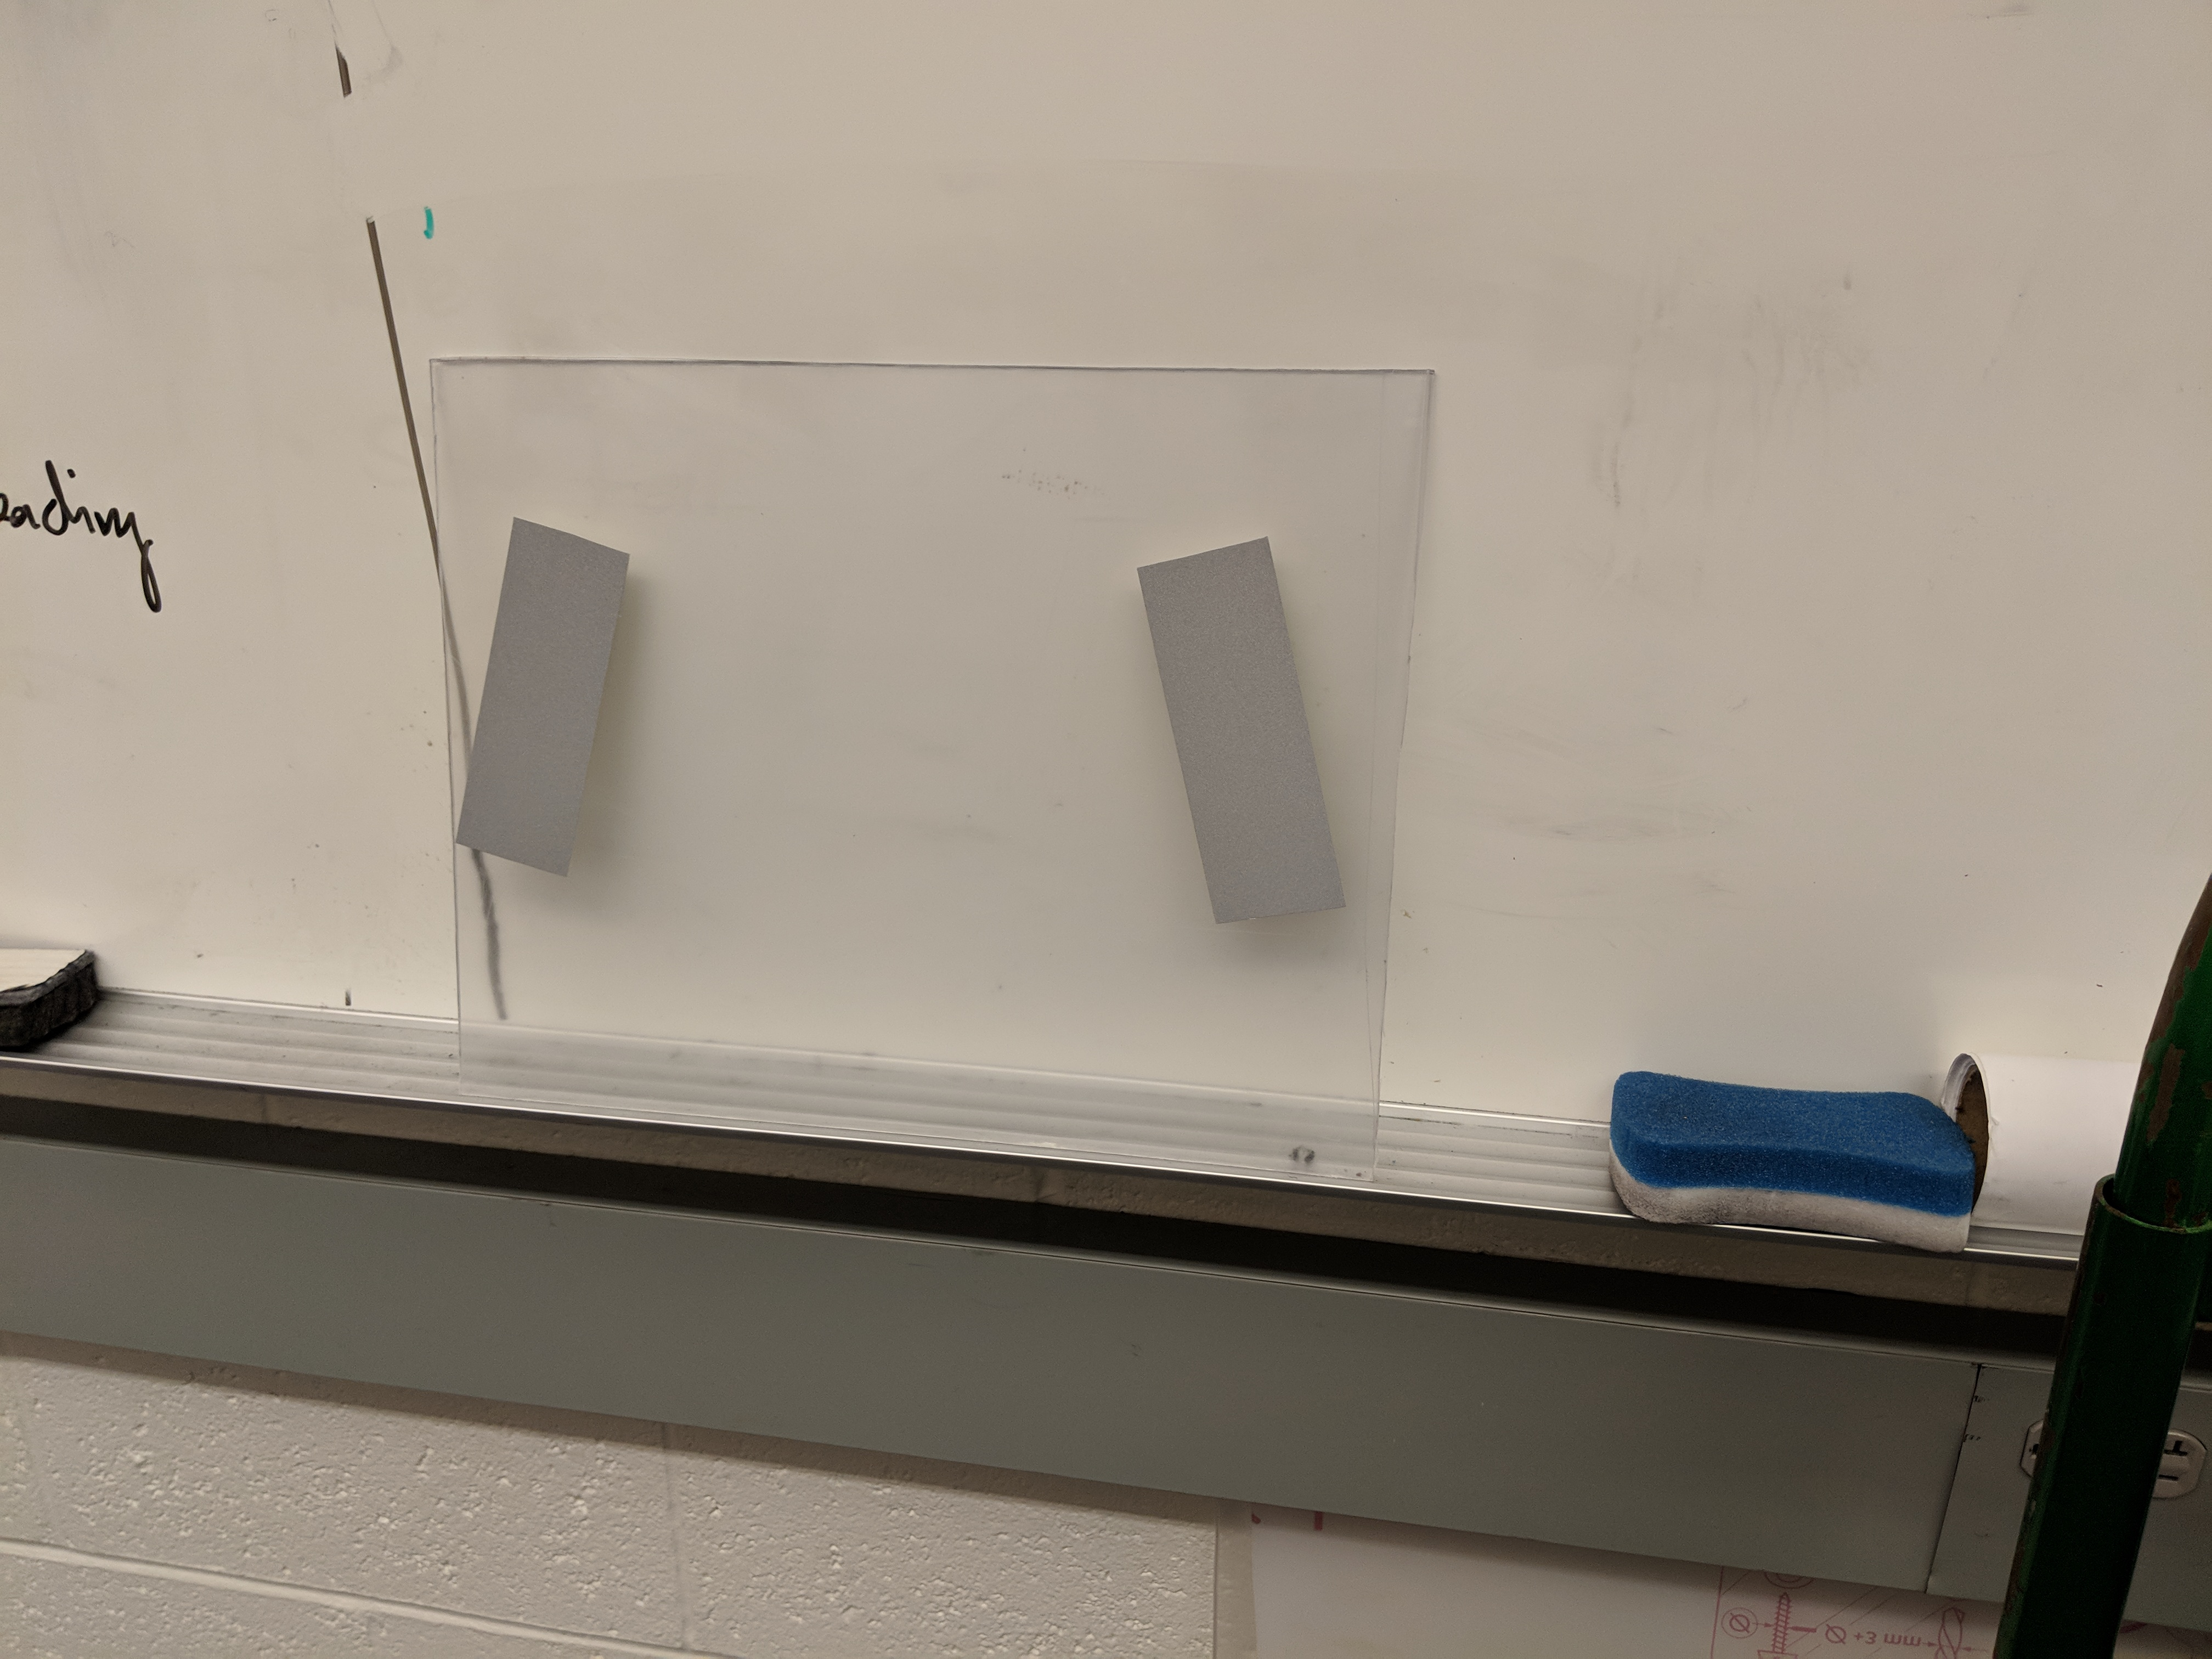vision_target: (446, 507, 1360, 943)
